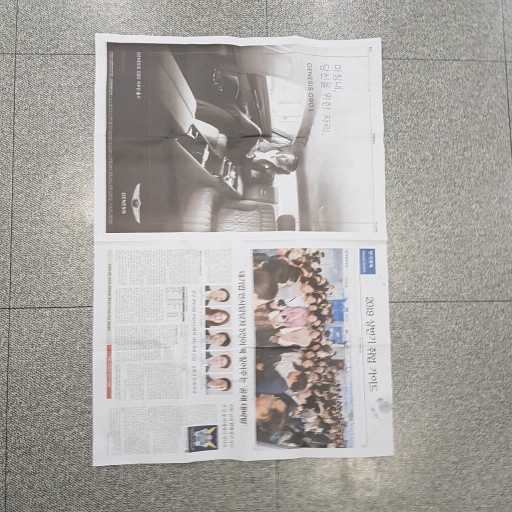Paper_2: (86, 24, 403, 478)
